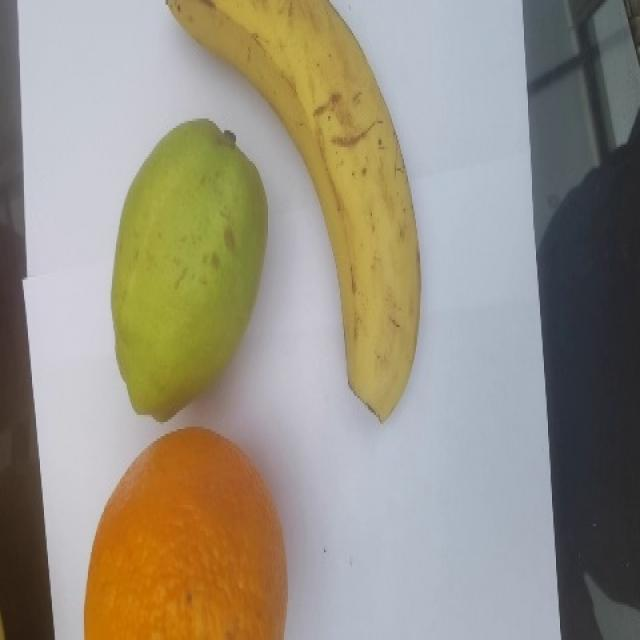Banana: (163, 0, 422, 424)
Orange: (82, 425, 288, 639)
